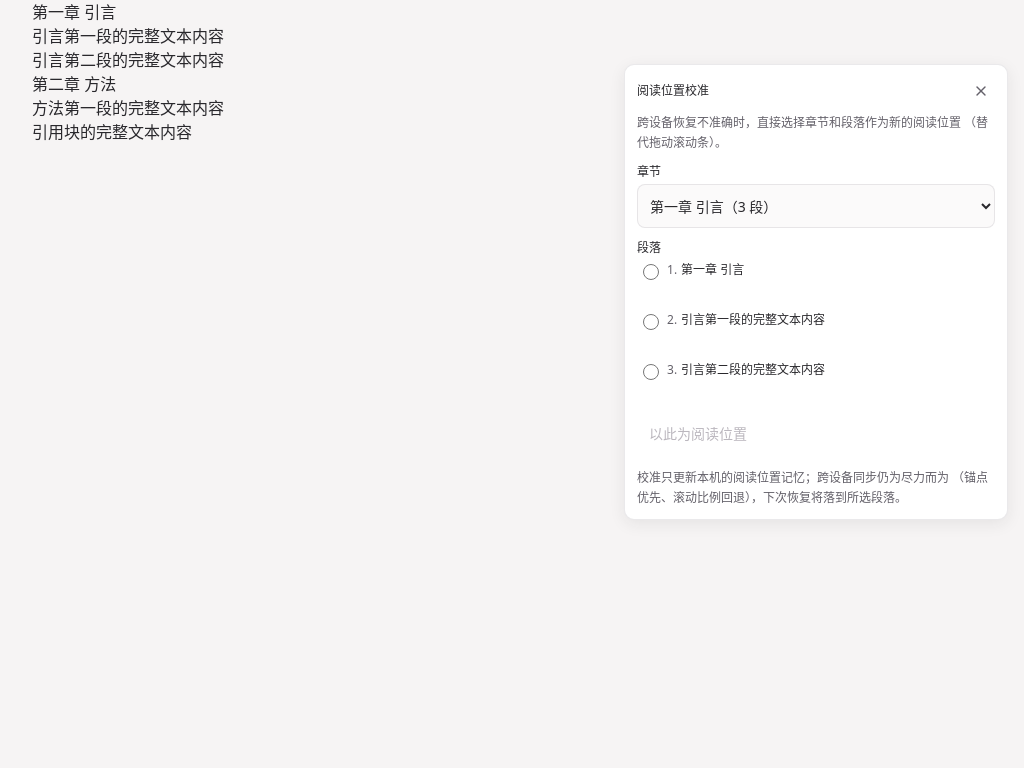
Test: NEW-353 校准面板 › 主路径：选章节 → 选段落 → 保存 → 本机位置记忆命中所选锚点
The width and height of the screenshot is (1024, 768).
Expected: the dropdown with test id "n353-chapter-select" shows "第一章 引言（3 段）", 637,184 -> 995,228
Click the radio button with aria-label "第 3 段".
click(651, 372)  # box 643,364 -> 659,380
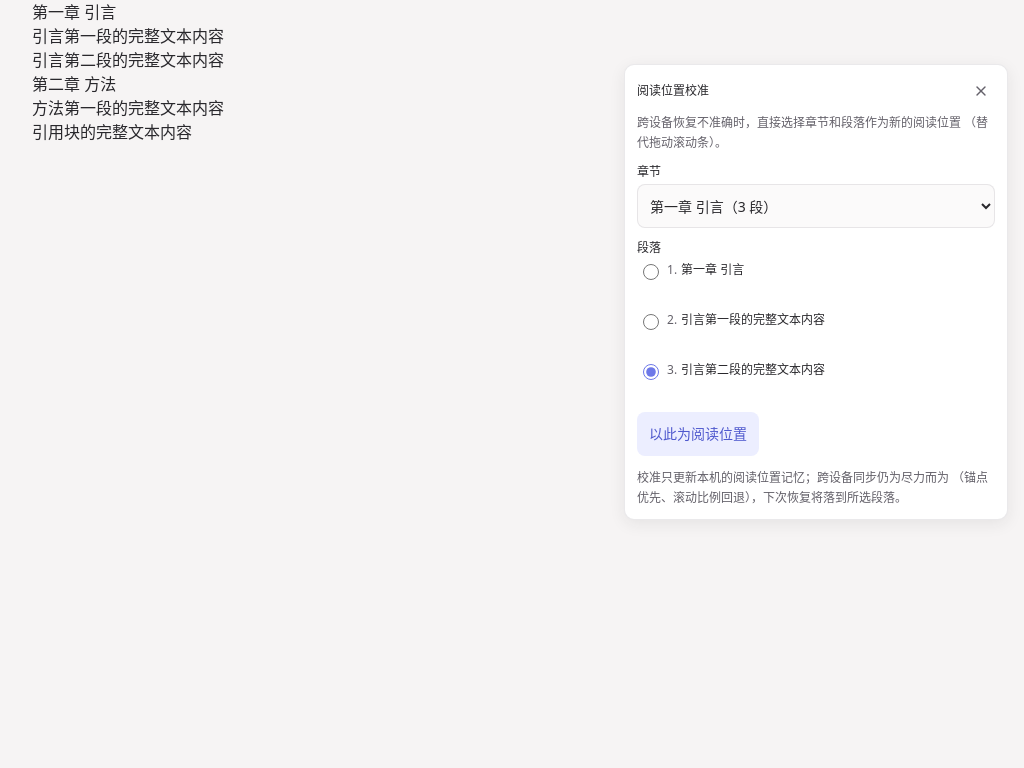
Click the button with test id "n353-save".
click(698, 434)  # box 637,412 -> 759,456
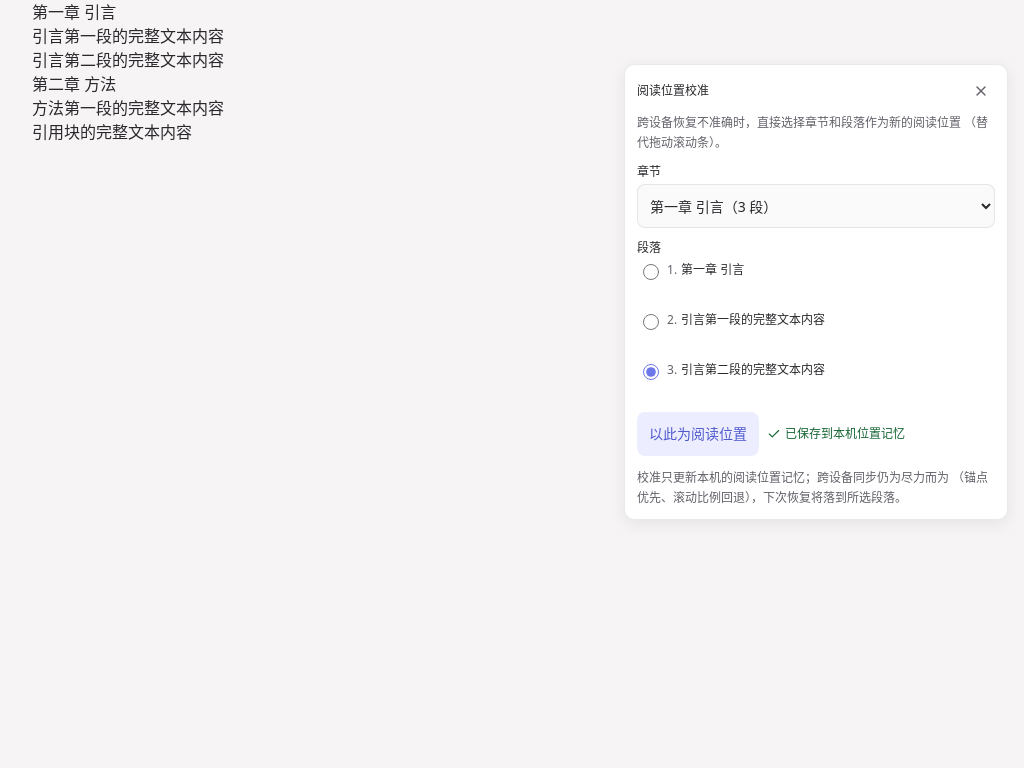
Expected: the text "引言第二段的完整文本内容" is shown, 32,49 -> 224,71
Now the text "已保存到本机位置记忆" is shown, box 767,426 -> 905,442
